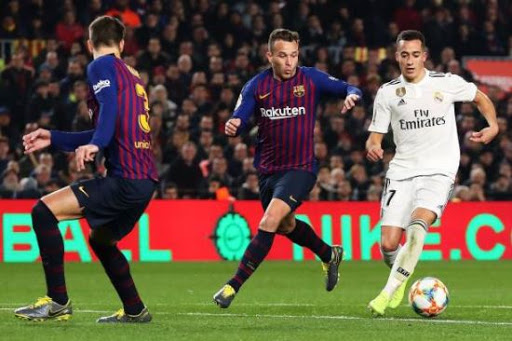barcelona: (15, 11, 166, 329), (206, 24, 351, 308)
realmadrid: (358, 29, 491, 341)
